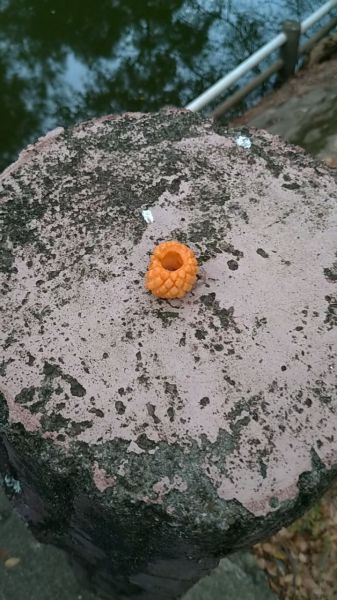eggs: (140, 238, 202, 301)
